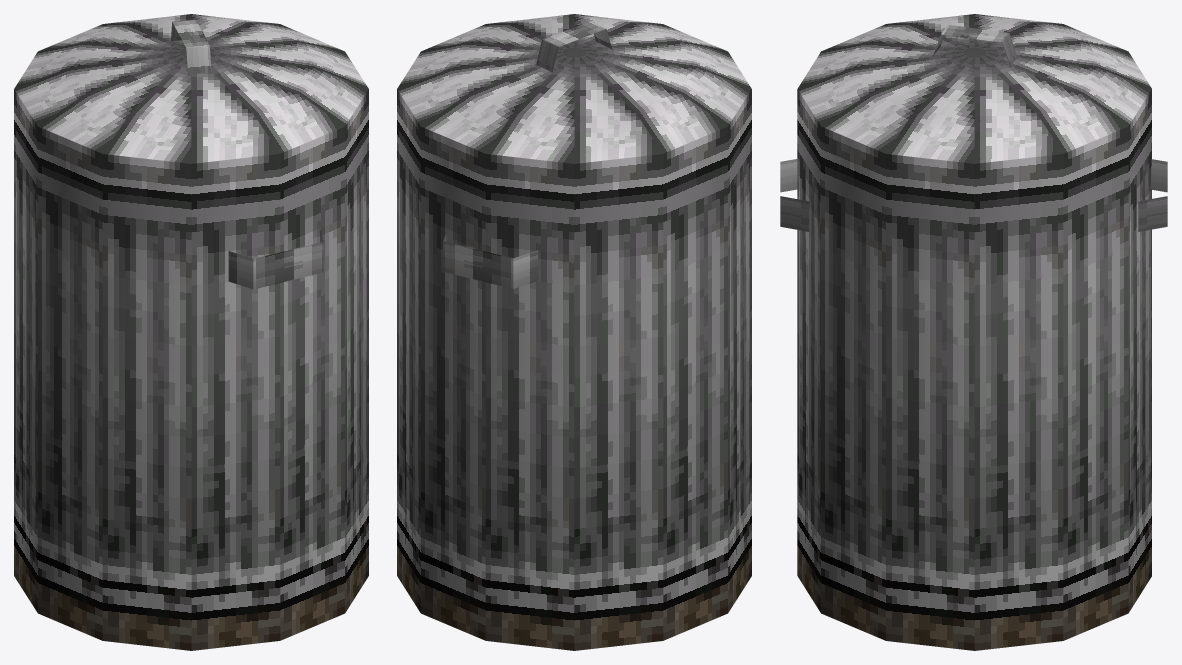
File: RubbishBin.glb
3 renders of one model, left to right at view 1: azimuth 30°, elevation 25°; view 2: azimuth 150°, elevation 25°; view 3: azimuth 270°, elevation 25°, orthographic.
Visible parts, largest first — view 1: RUBBISHBIN; view 2: RUBBISHBIN; view 3: RUBBISHBIN.
Part boxes in pixels (box(x1,y1,x2,y2)): RUBBISHBIN: box(14, 14, 368, 650); RUBBISHBIN: box(397, 14, 751, 650); RUBBISHBIN: box(780, 14, 1167, 650).
Bounding box in the file's own units: 0.66 × 1.11 × 0.721.
Materials: 1 (1 with a texture image).
